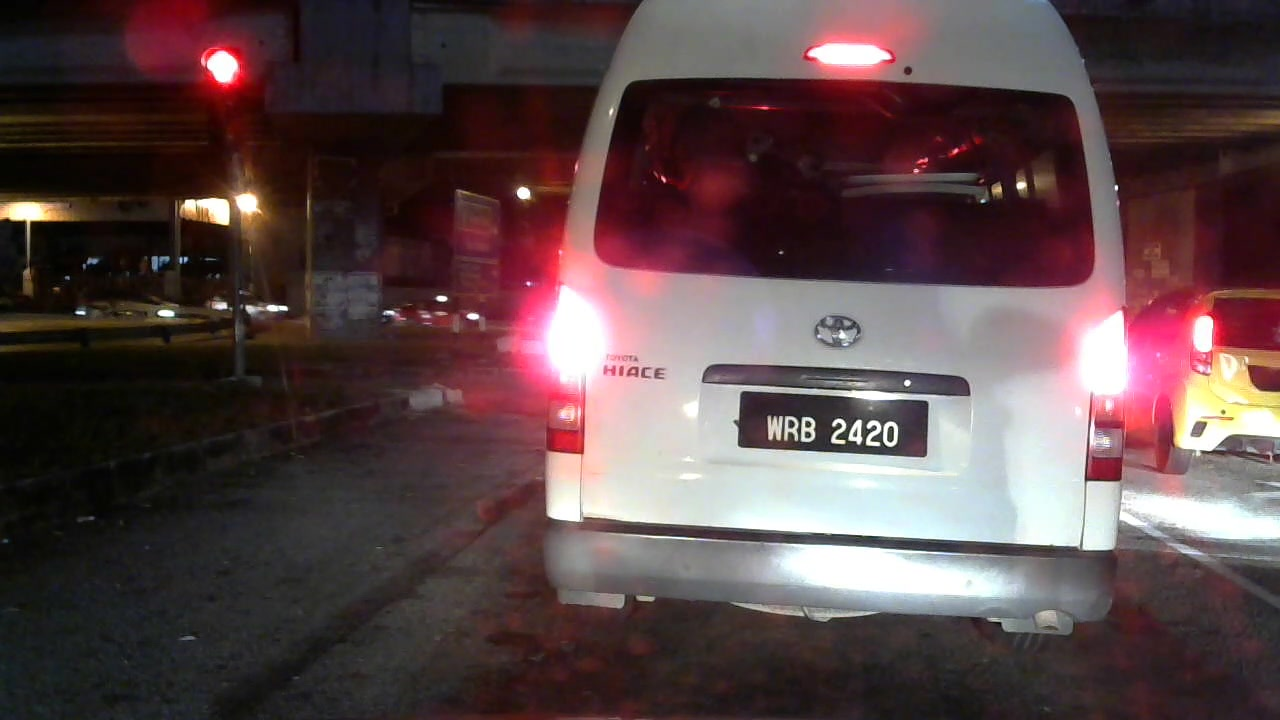Car: (1128, 279, 1280, 492), (385, 286, 487, 337), (74, 287, 184, 323), (199, 283, 299, 322)
